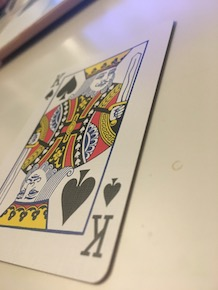KingOfSpades: (1, 17, 177, 286)
